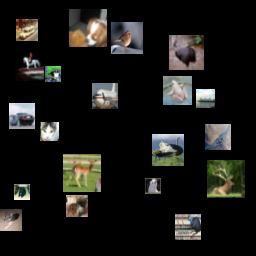airplane: (92, 83, 118, 109), (205, 124, 231, 150)
automobile: (9, 103, 35, 129), (16, 19, 38, 41)
bird: (169, 35, 204, 70), (111, 22, 143, 54), (152, 134, 184, 166), (175, 214, 201, 240)
cat: (40, 122, 59, 141), (14, 184, 30, 200)
deer: (207, 160, 245, 198), (63, 154, 101, 192)
dog: (69, 9, 107, 47), (0, 209, 22, 231), (66, 195, 88, 217), (145, 178, 161, 194), (45, 66, 61, 82)
frog: (163, 76, 192, 105)
ship: (196, 89, 215, 108)
